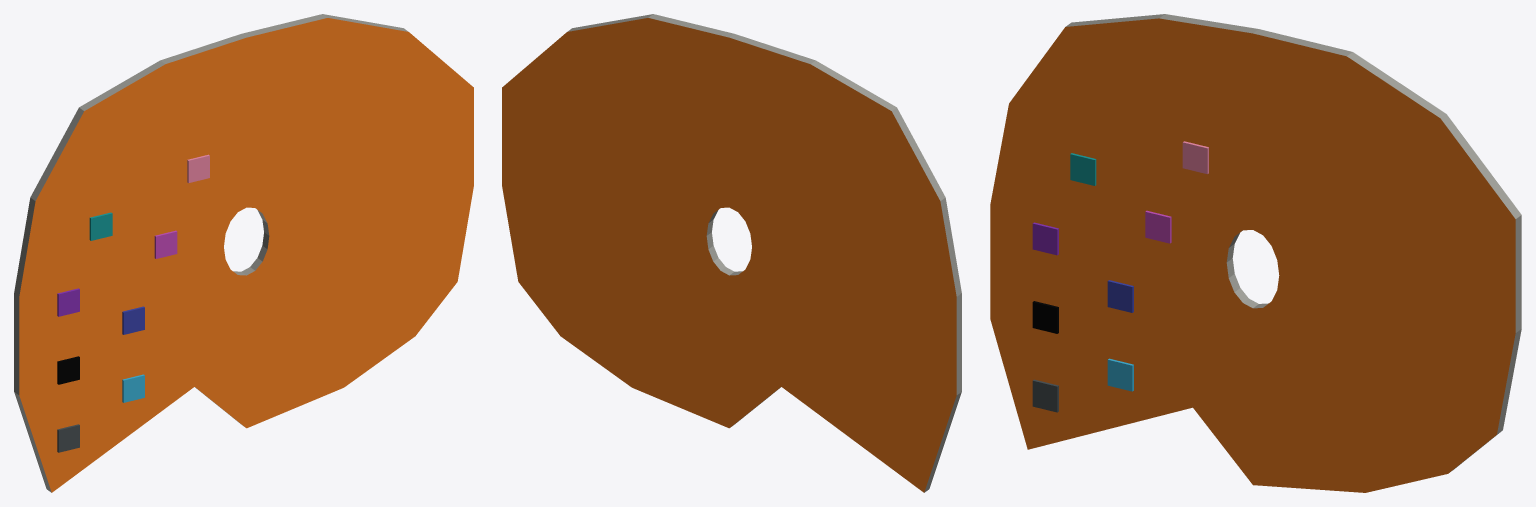
The model's file is item_palette8.obj.
3 views of the same model, side by side, from view 1: azimuth 30°, elevation 25°; view 2: azimuth 150°, elevation 25°; view 3: azimuth 330°, elevation 25° (orthographic). The views are drawn at different scales.
Visible parts, largest first — view 1: wooden_palette_with_open_thumb_hole_and_grip_notch, native_cumulative_paint_state; view 2: wooden_palette_with_open_thumb_hole_and_grip_notch; view 3: wooden_palette_with_open_thumb_hole_and_grip_notch, native_cumulative_paint_state.
Boxes of the visible parts, x1,y1,x2,y2 form: wooden_palette_with_open_thumb_hole_and_grip_notch: (14, 14, 473, 492); native_cumulative_paint_state: (57, 154, 209, 452); wooden_palette_with_open_thumb_hole_and_grip_notch: (502, 14, 961, 492); wooden_palette_with_open_thumb_hole_and_grip_notch: (990, 14, 1521, 492); native_cumulative_paint_state: (1032, 141, 1208, 412).
Bounding box in the file's own units: 0.875 × 0.75 × 0.0219.
